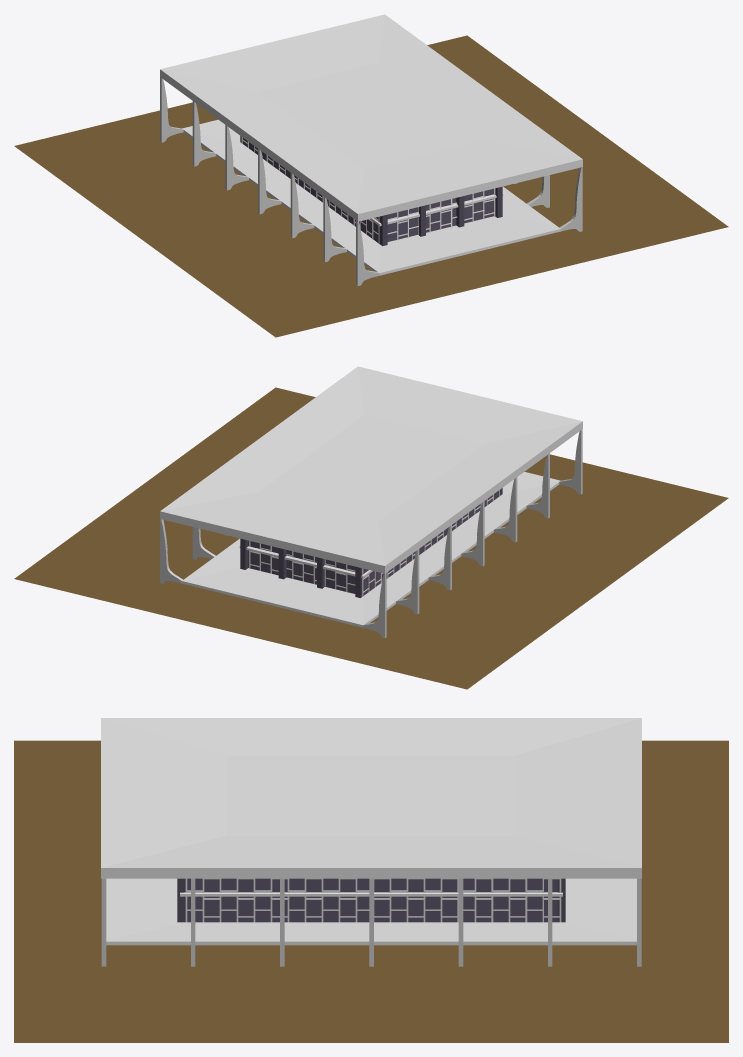
Rendered from STF.fbx.
3 renders of one model, top to bottom at view 1: azimuth 30°, elevation 25°; view 2: azimuth 150°, elevation 25°; view 3: azimuth 270°, elevation 25°, orthographic. The views are drawn at different scales.
Visible parts, largest first — view 1: Cube, Plane, Plane.001, Plane.002, Plane.004; view 2: Cube, Plane, Plane.001, Plane.003, Plane.006; view 3: Cube, Plane, Plane.005, Plane.001.
Boxes of the visible parts, x1,y1,x2,y2 form: Cube: (160, 14, 582, 275); Plane: (14, 35, 728, 337); Plane.001: (160, 77, 582, 285); Plane.002: (379, 186, 502, 245); Plane.004: (387, 188, 495, 240); Cube: (160, 366, 582, 627); Plane: (14, 387, 728, 689); Plane.001: (160, 429, 582, 637); Plane.003: (240, 538, 361, 597); Plane.006: (249, 540, 355, 591); Cube: (101, 718, 641, 945); Plane: (14, 740, 728, 1042); Plane.005: (185, 878, 561, 922); Plane.001: (101, 878, 641, 966).
Size of the model in its own units: 2553 by 389 by 2553.
